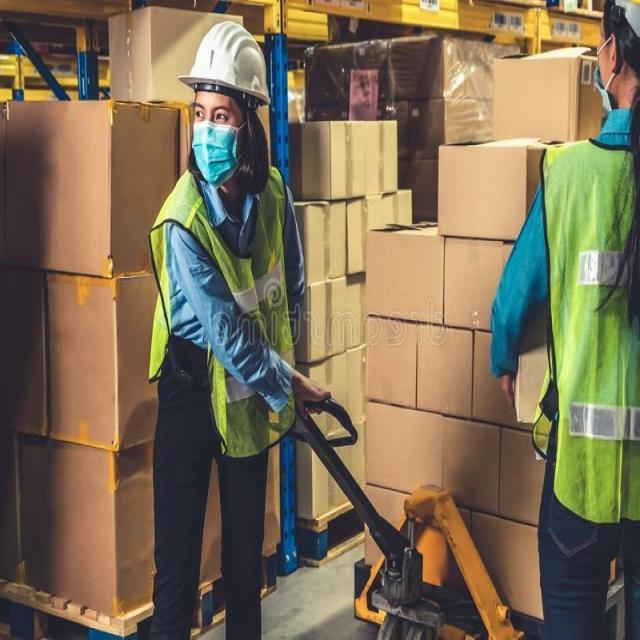reflective_jacket: (530, 116, 639, 539), (144, 163, 299, 429)
safety_helmet: (175, 15, 274, 109), (593, 0, 639, 84)
